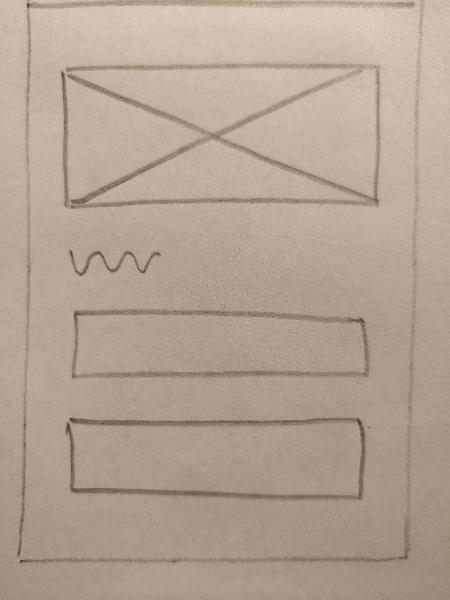image: (54, 53, 385, 219)
text: (60, 242, 166, 282)
text_input: (63, 301, 375, 391), (59, 412, 371, 502)
